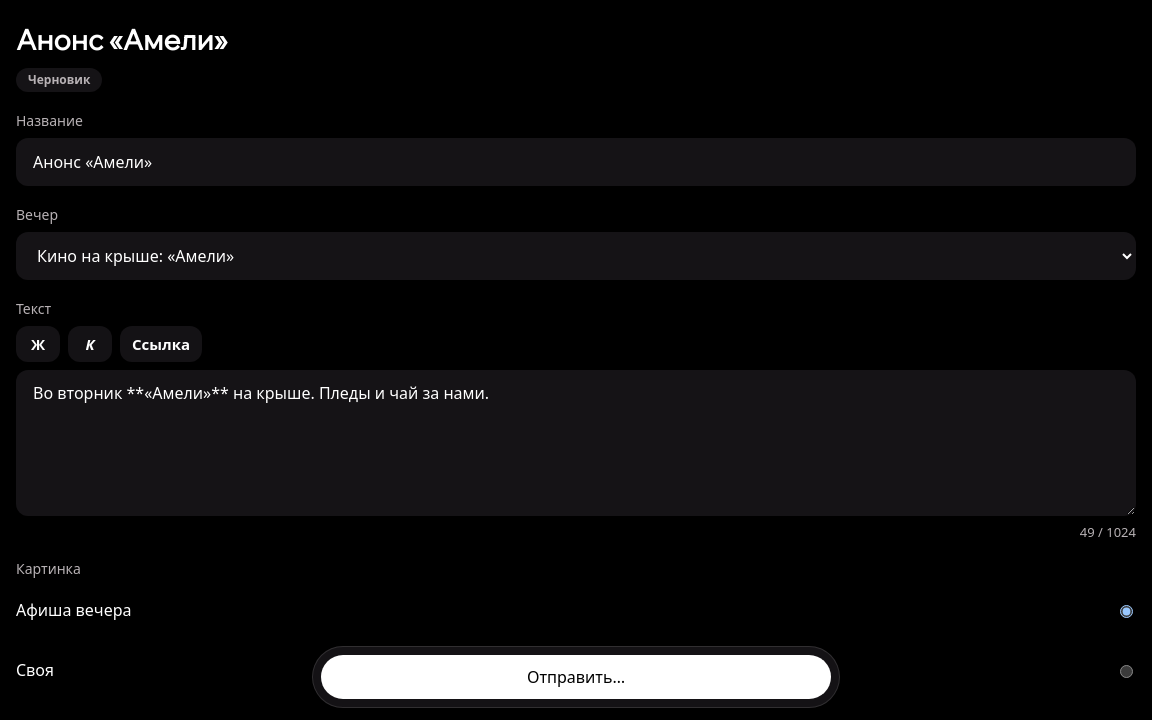
it: SendFlow › puts a night time under the time field
This screenshot has width=1152, height=720.
Click the button "Отправить…" at (576, 677), box x1=321 y1=655 x2=831 y2=699
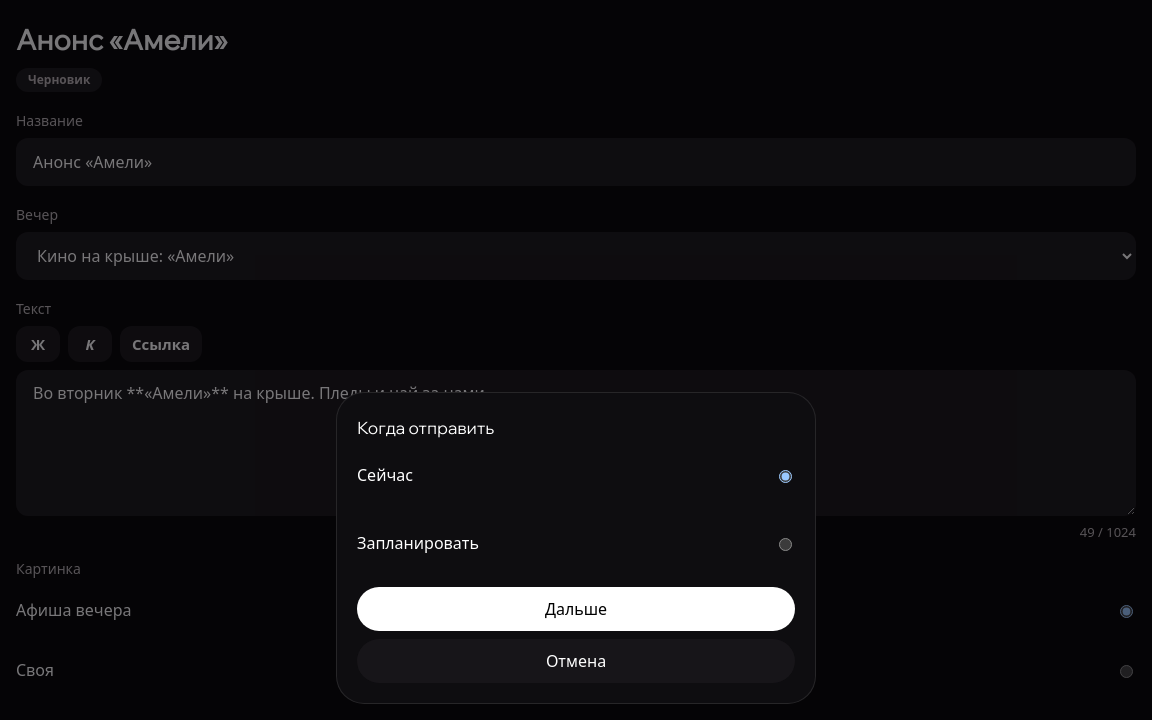
Click the radio button labelled "Запланировать" at (786, 544), box x1=779 y1=538 x2=792 y2=551
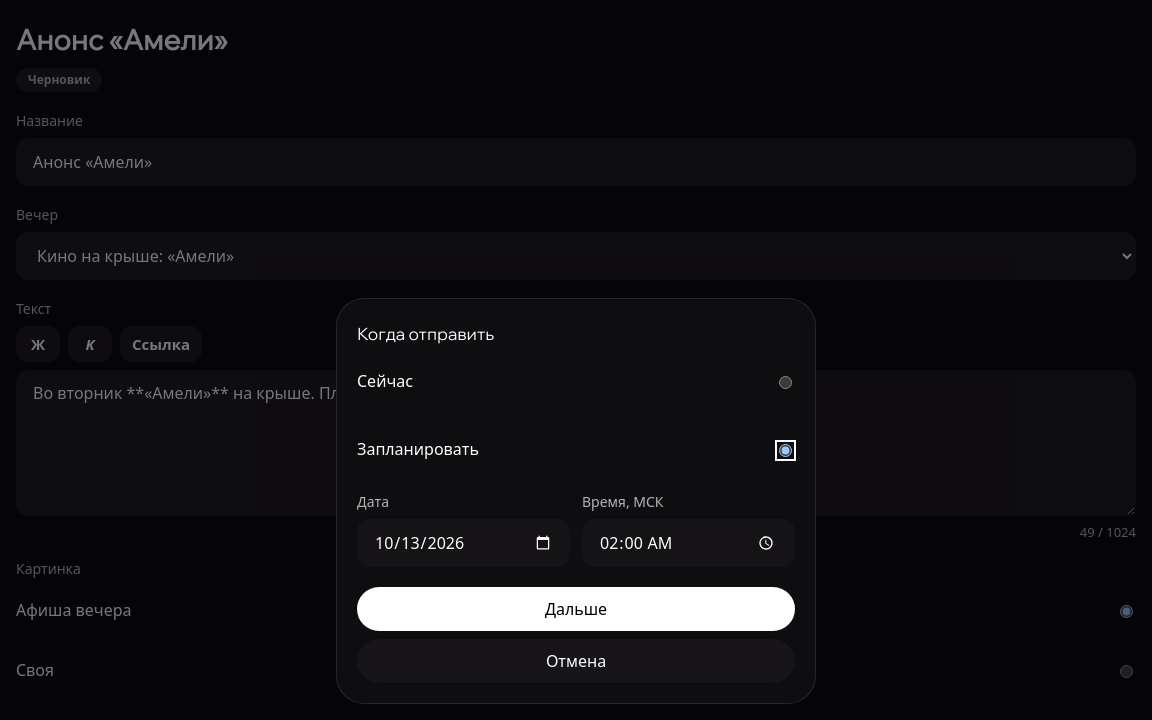
Replace the text in the time field labelled "Время, МСК" with "22:30" at (688, 543), box x1=582 y1=519 x2=795 y2=567
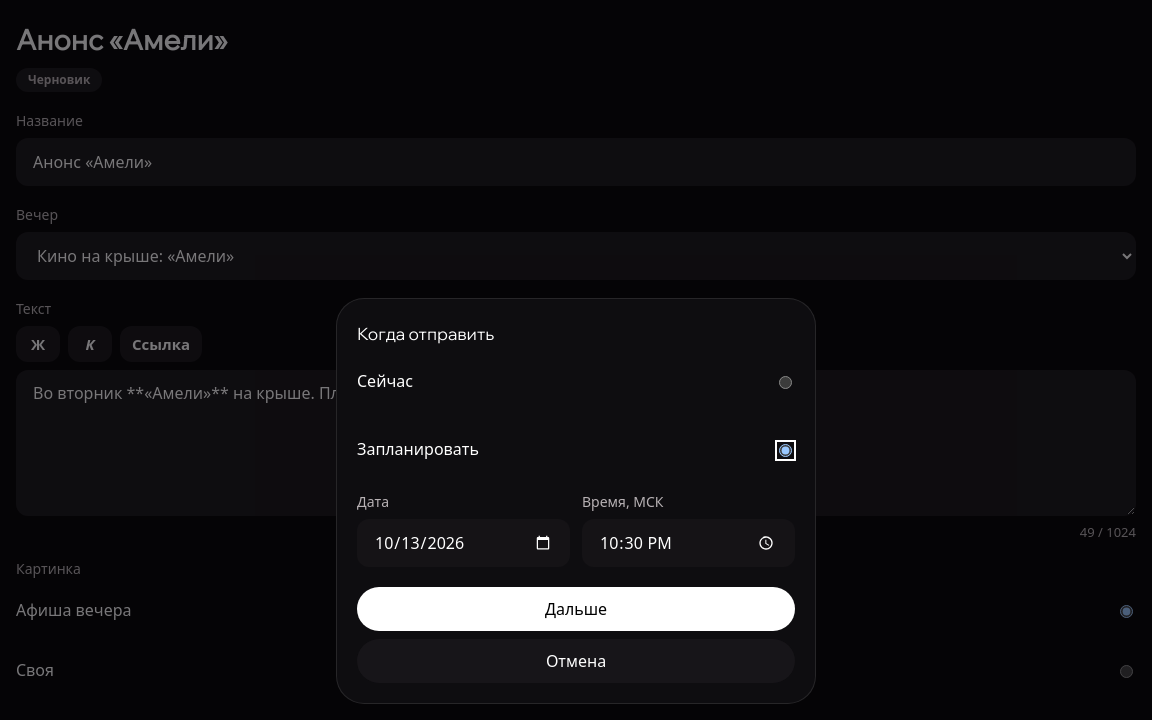
Click the button "Дальше" at (576, 609), box x1=357 y1=587 x2=795 y2=631
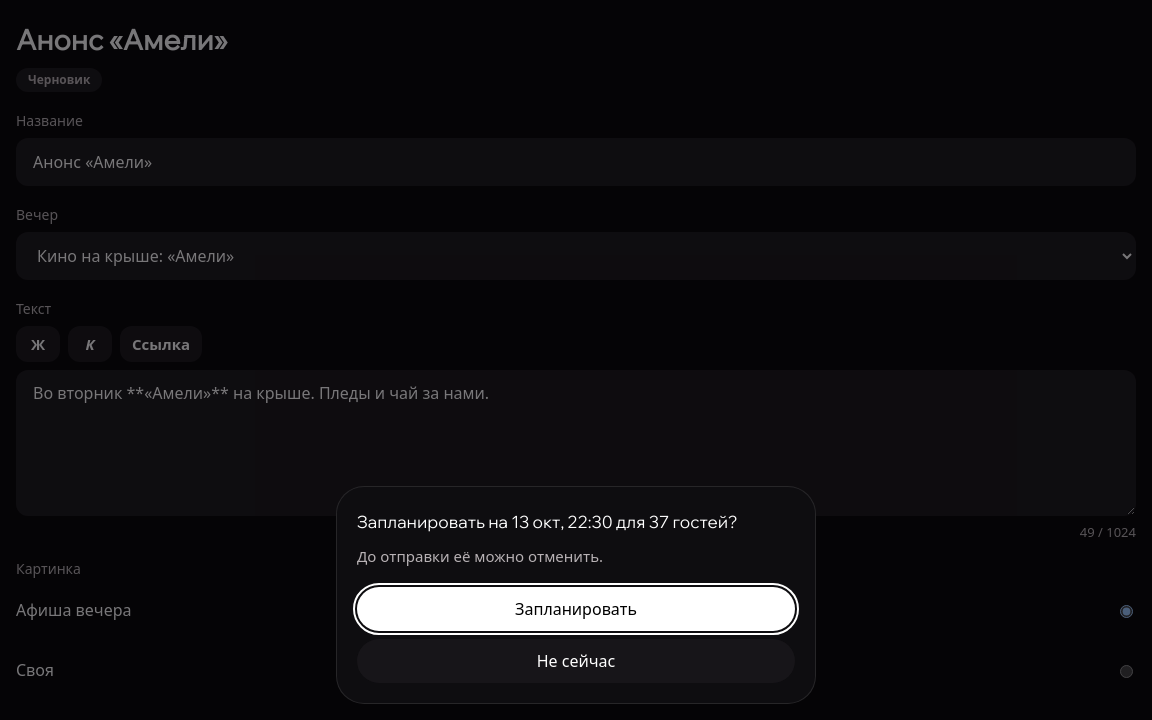
Click the button "Запланировать" at (576, 609), box x1=357 y1=587 x2=795 y2=631
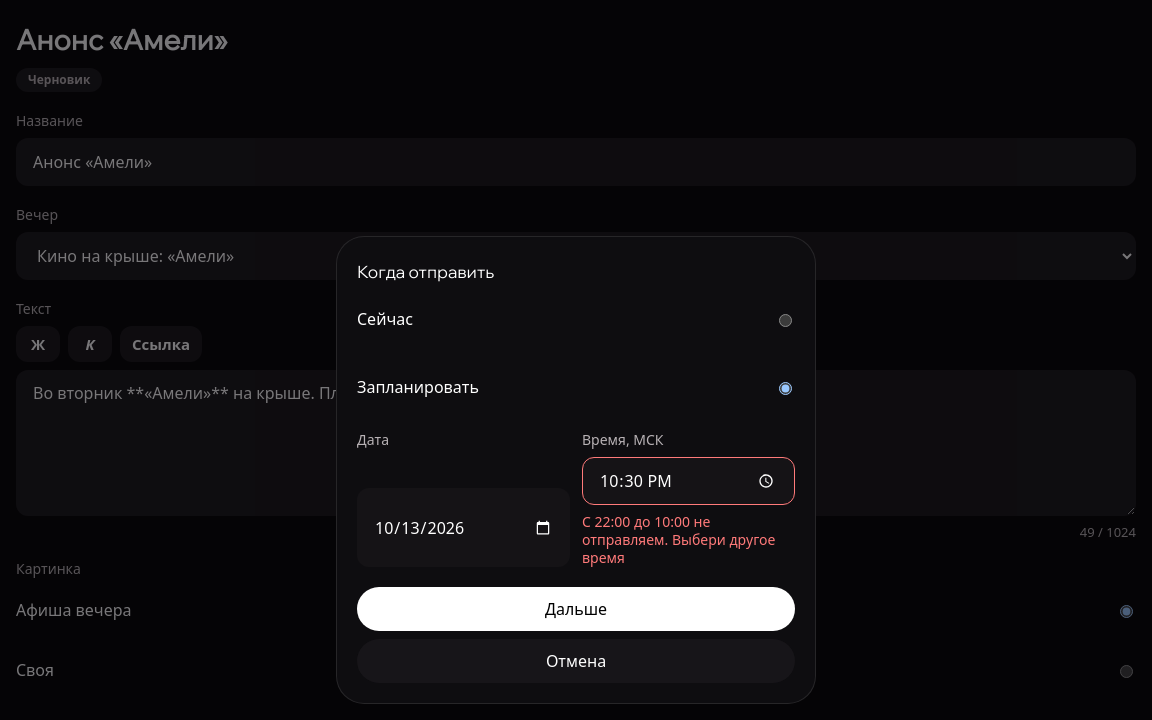
Check: the text "С 22:00 до 10:00 не отправляем. Выбери другое время" is shown, box x1=582 y1=513 x2=795 y2=567
